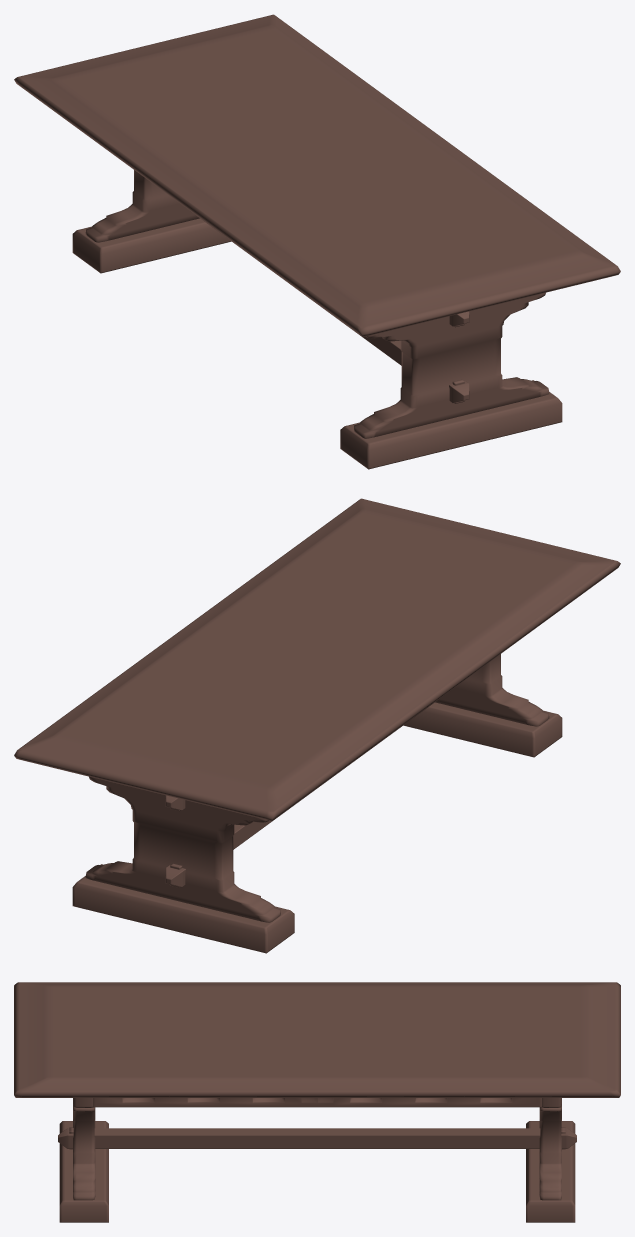
Rendered from Altar Table.fbx.
3 views of the same model, one above another, from view 1: azimuth 30°, elevation 25°; view 2: azimuth 150°, elevation 25°; view 3: azimuth 270°, elevation 25° (orthographic). The views are drawn at different scales.
Visible parts, largest first — view 1: Altar Table 2; view 2: Altar Table 2; view 3: Altar Table 2.
Boxes of the visible parts, bbox=[...] form: Altar Table 2: bbox=[14, 14, 620, 469]; Altar Table 2: bbox=[14, 498, 620, 953]; Altar Table 2: bbox=[14, 982, 620, 1222].
Bounding box in the file's own units: 368 × 158 × 99.92.
